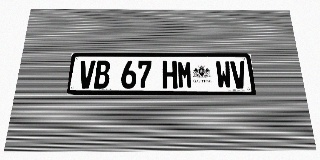6: (121, 61, 137, 89)
7: (137, 61, 152, 89)
B: (94, 61, 111, 89)
H: (162, 61, 177, 89)
M: (177, 61, 193, 89)
V: (78, 61, 95, 89), (230, 61, 247, 88)
W: (215, 61, 232, 88)
